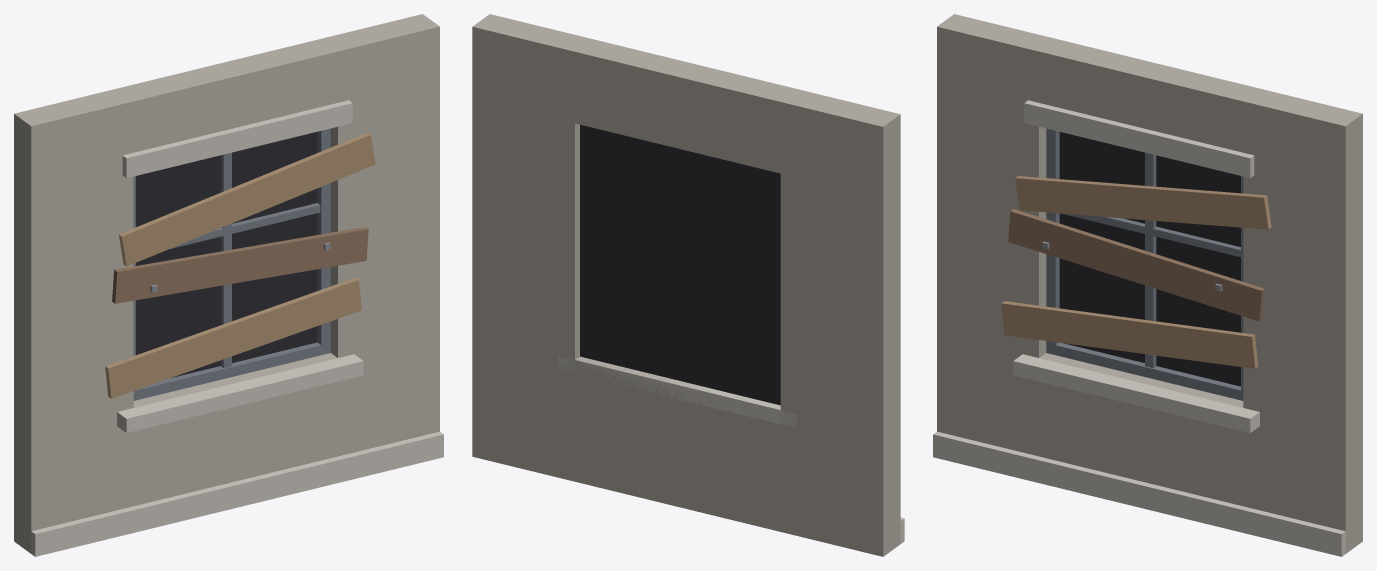
File: wall_window_boarded.glb
The picture shows the model from 3 angles, left to right: view 1: azimuth 30°, elevation 25°; view 2: azimuth 150°, elevation 25°; view 3: azimuth 330°, elevation 25°; orthographic projection.
Visible parts, largest first — view 1: wall_window_boarded; view 2: wall_window_boarded; view 3: wall_window_boarded.
Boxes of the visible parts, box(x1,y1,x2,y2) form: wall_window_boarded: box(14, 14, 443, 556); wall_window_boarded: box(472, 14, 904, 556); wall_window_boarded: box(933, 14, 1362, 556).
Size of the model in its own units: 3 by 3 by 0.34.
